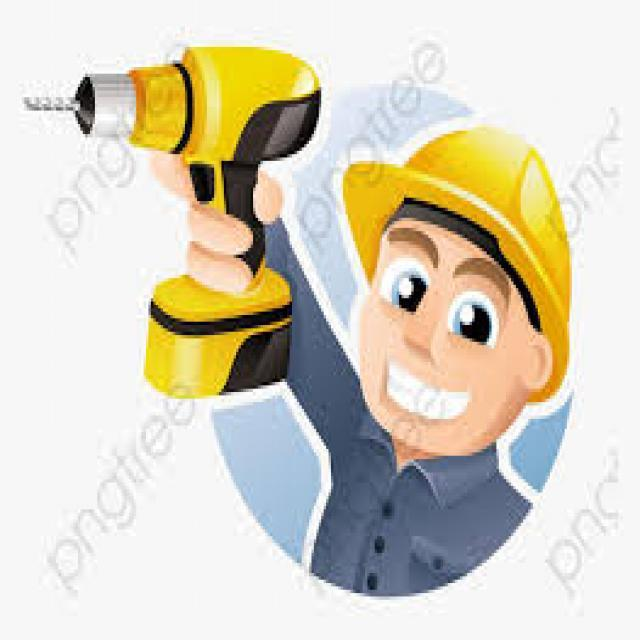drill: (20, 44, 313, 396)
